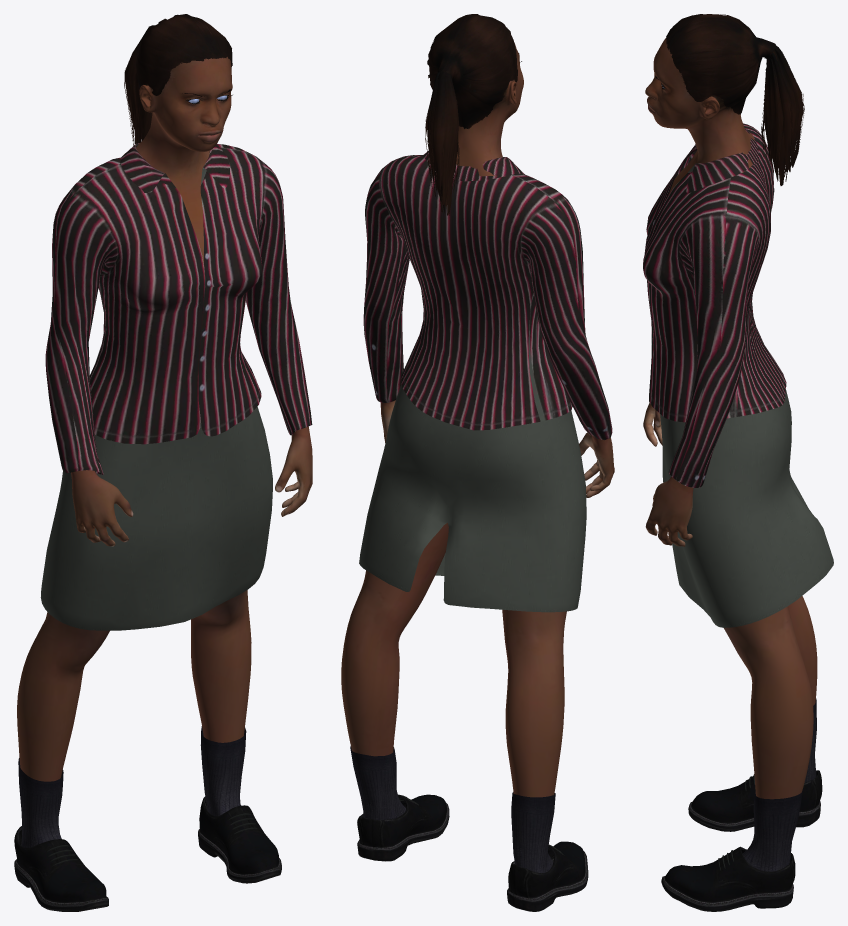
The model's file is amara.glb.
3 renders of one model, left to right at view 1: azimuth 30°, elevation 25°; view 2: azimuth 150°, elevation 25°; view 3: azimuth 270°, elevation 25°, orthographic. The views are drawn at different scales.
Size of the model in its own units: 0.4981 by 1.68 by 0.3402.
8 materials, 8 textured.
